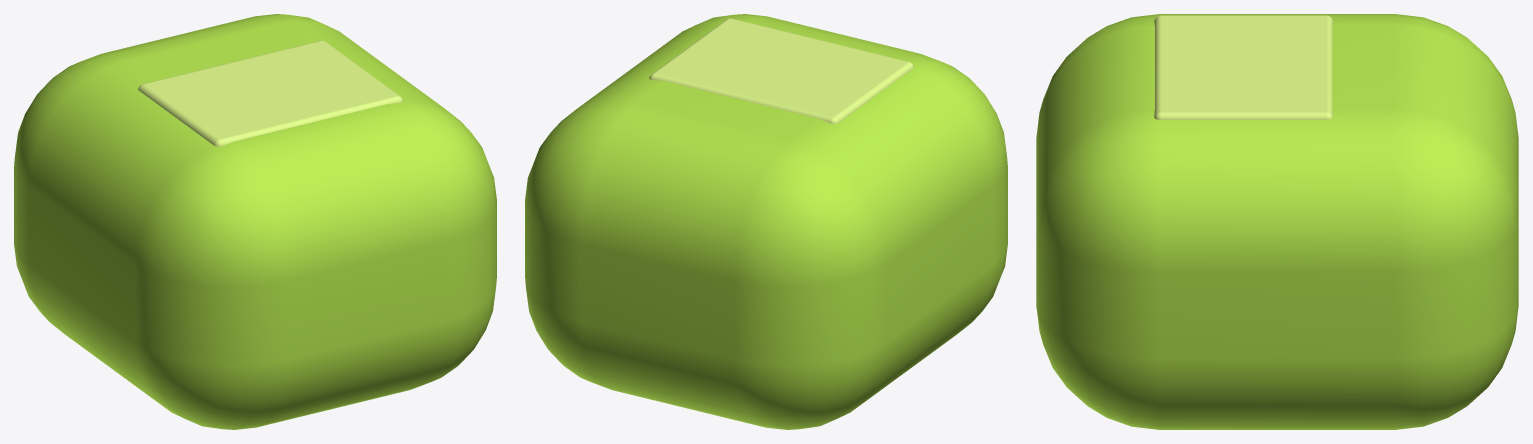
Rendered from toon-body.glb.
3 renders of one model, left to right at view 1: azimuth 30°, elevation 25°; view 2: azimuth 150°, elevation 25°; view 3: azimuth 270°, elevation 25°, orthographic. The views are drawn at different scales.
Parts seen in each view (by area): view 1: Body segment, Dorsal accent; view 2: Body segment, Dorsal accent; view 3: Body segment, Dorsal accent.
Part boxes in pixels (x1,y1,x2,y2): Body segment: (14, 14, 496, 429); Dorsal accent: (138, 40, 402, 146); Body segment: (525, 14, 1007, 429); Dorsal accent: (649, 18, 913, 123); Body segment: (1036, 14, 1518, 429); Dorsal accent: (1154, 15, 1332, 119).
Bounding box in the file's own units: 0.79 × 0.616 × 0.86.
